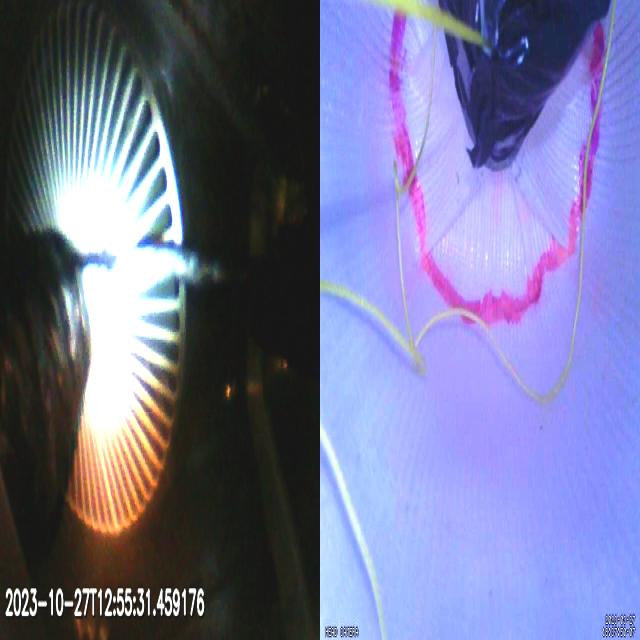red-circle: (388, 11, 607, 327)
